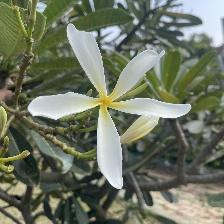champaka: (29, 22, 196, 194)
